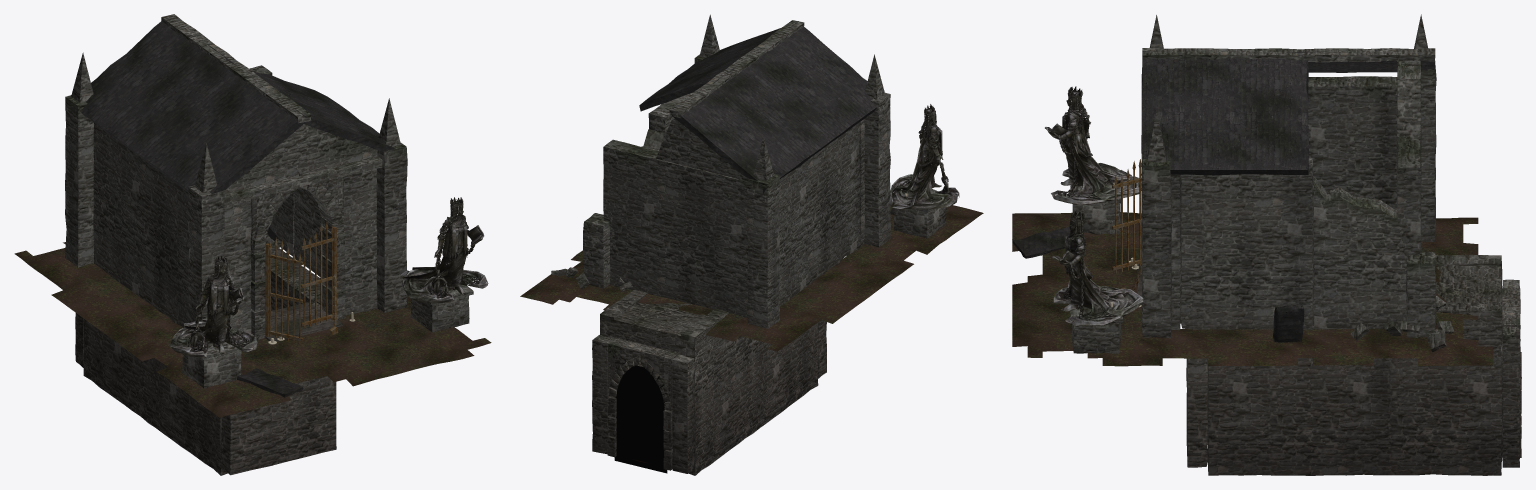
The model's file is hellgate_mausoleum_c.glb.
The picture shows the model from 3 angles, left to right: view 1: azimuth 30°, elevation 25°; view 2: azimuth 150°, elevation 25°; view 3: azimuth 270°, elevation 25°; orthographic projection. The views are drawn at different scales.
Parts seen in each view (by area): view 1: maus_roof, ground, maus_front, stairwell, maus_butt, maus_wall_l, statue_hooded_r, statue_hooded_l, gate, plinths, maus_wall_r, maus_floor (+1 smaller); view 2: stairwell, maus_back, maus_roof, maus_butt, ground, maus_wall_l, fx_void_c, statue_hooded_l, plinths, maus_wall_r, maus_front, rubble; view 3: stairwell, maus_wall_r, maus_roof, ground, maus_butt, maus_wall_l, maus_back, statue_hooded_l, statue_hooded_r, plinths, graves, maus_front (+2 smaller).
Part boxes in pixels (x1=…): maus_roof: x1=80, y1=14, x2=395, y2=240; ground: x1=14, y1=242, x2=491, y2=417; maus_front: x1=224, y1=124, x2=382, y2=340; stairwell: x1=75, y1=251, x2=336, y2=475; maus_butt: x1=64, y1=52, x2=407, y2=329; maus_wall_l: x1=93, y1=124, x2=188, y2=327; statue_hooded_r: x1=401, y1=197, x2=488, y2=303; statue_hooded_l: x1=170, y1=255, x2=257, y2=357; gate: x1=265, y1=221, x2=337, y2=344; plinths: x1=182, y1=281, x2=473, y2=388; maus_wall_r: x1=271, y1=187, x2=321, y2=276; maus_floor: x1=264, y1=248, x2=342, y2=341; stairwell: x1=592, y1=289, x2=826, y2=475; maus_back: x1=603, y1=119, x2=747, y2=317; maus_roof: x1=639, y1=20, x2=876, y2=193; maus_butt: x1=583, y1=14, x2=890, y2=328; ground: x1=520, y1=205, x2=983, y2=351; maus_wall_l: x1=743, y1=122, x2=860, y2=317; fx_void_c: x1=614, y1=363, x2=667, y2=473; statue_hooded_l: x1=890, y1=104, x2=959, y2=209; plinths: x1=892, y1=189, x2=946, y2=238; maus_wall_r: x1=608, y1=92, x2=692, y2=276; maus_front: x1=859, y1=119, x2=864, y2=246; rubble: x1=551, y1=267, x2=632, y2=291; stairwell: x1=1186, y1=255, x2=1521, y2=475; maus_wall_r: x1=1180, y1=158, x2=1421, y2=329; maus_roof: x1=1142, y1=48, x2=1435, y2=206; ground: x1=1012, y1=212, x2=1493, y2=366; maus_butt: x1=1141, y1=14, x2=1436, y2=338; maus_wall_l: x1=1308, y1=76, x2=1421, y2=234; maus_back: x1=1396, y1=60, x2=1421, y2=328; statue_hooded_l: x1=1045, y1=86, x2=1141, y2=204; statue_hooded_r: x1=1052, y1=210, x2=1143, y2=326; plinths: x1=1070, y1=179, x2=1122, y2=353; graves: x1=1012, y1=227, x2=1304, y2=342; maus_front: x1=1171, y1=174, x2=1180, y2=329.
Bounding box in the file's own units: 6.33 × 7.41 × 8.48.
10 materials, 8 textured.
